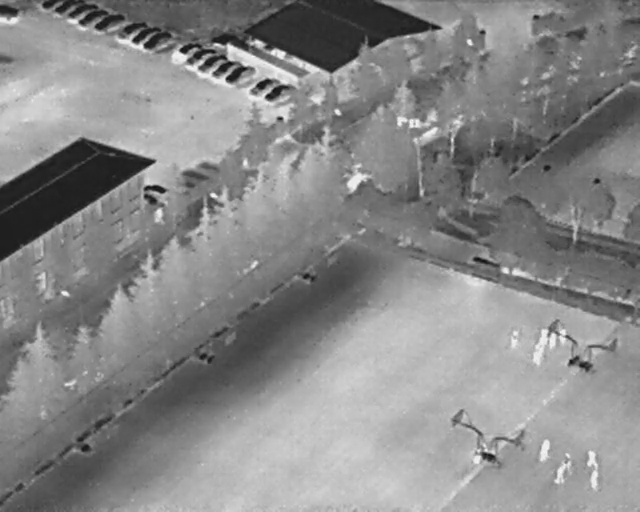Car: (181, 40, 219, 74), (168, 34, 204, 68), (138, 23, 174, 56), (193, 47, 230, 78), (90, 7, 127, 36), (129, 19, 162, 50), (260, 77, 295, 106), (246, 71, 281, 100), (222, 58, 257, 87), (209, 52, 244, 81), (115, 15, 151, 43), (75, 3, 111, 31), (63, 0, 97, 24), (141, 189, 165, 211), (55, 0, 82, 15), (142, 180, 167, 195), (0, 4, 19, 19), (41, 0, 57, 10)
Person: (531, 344, 544, 366), (553, 465, 567, 485), (539, 439, 551, 461), (589, 469, 600, 492), (563, 452, 573, 473), (588, 449, 598, 468), (510, 330, 519, 351), (538, 328, 549, 344), (549, 330, 557, 349), (559, 329, 567, 346)
